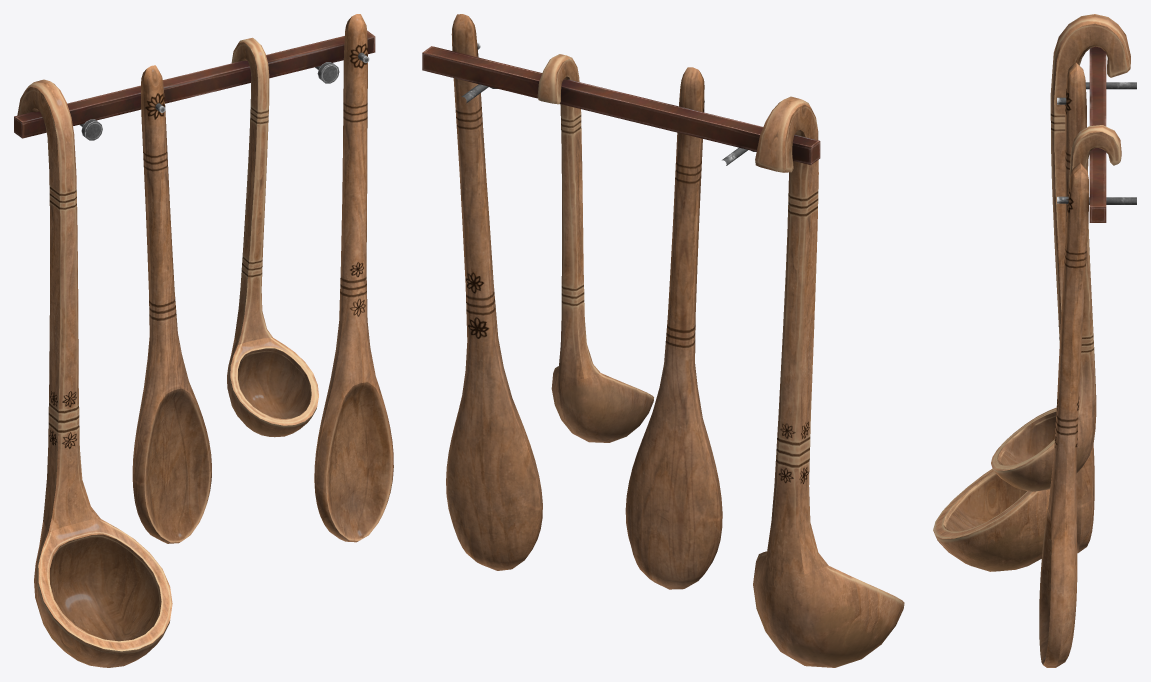
File: wooden-ladles-and-spoons-web.glb
The picture shows the model from 3 angles, left to right: view 1: azimuth 30°, elevation 25°; view 2: azimuth 150°, elevation 25°; view 3: azimuth 270°, elevation 25°; orthographic projection. The views are drawn at different scales.
Parts seen in each view (by area): view 1: world; view 2: world; view 3: world.
Part boxes in pixels (x1,y1,x2,y2): world: [14, 14, 393, 667]; world: [422, 14, 904, 667]; world: [933, 14, 1136, 667].
Size of the model in its own units: 0.2095 by 0.2901 by 0.0985.
Materials: 1 (1 with a texture image).
